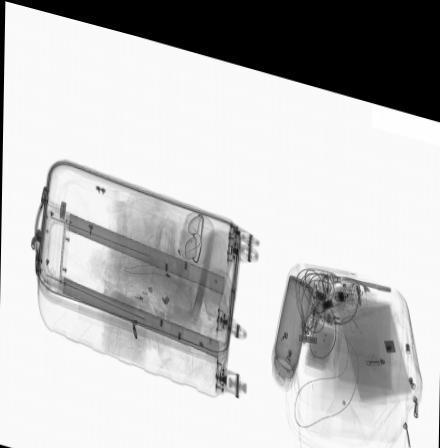Knife: (322, 253, 390, 270)
